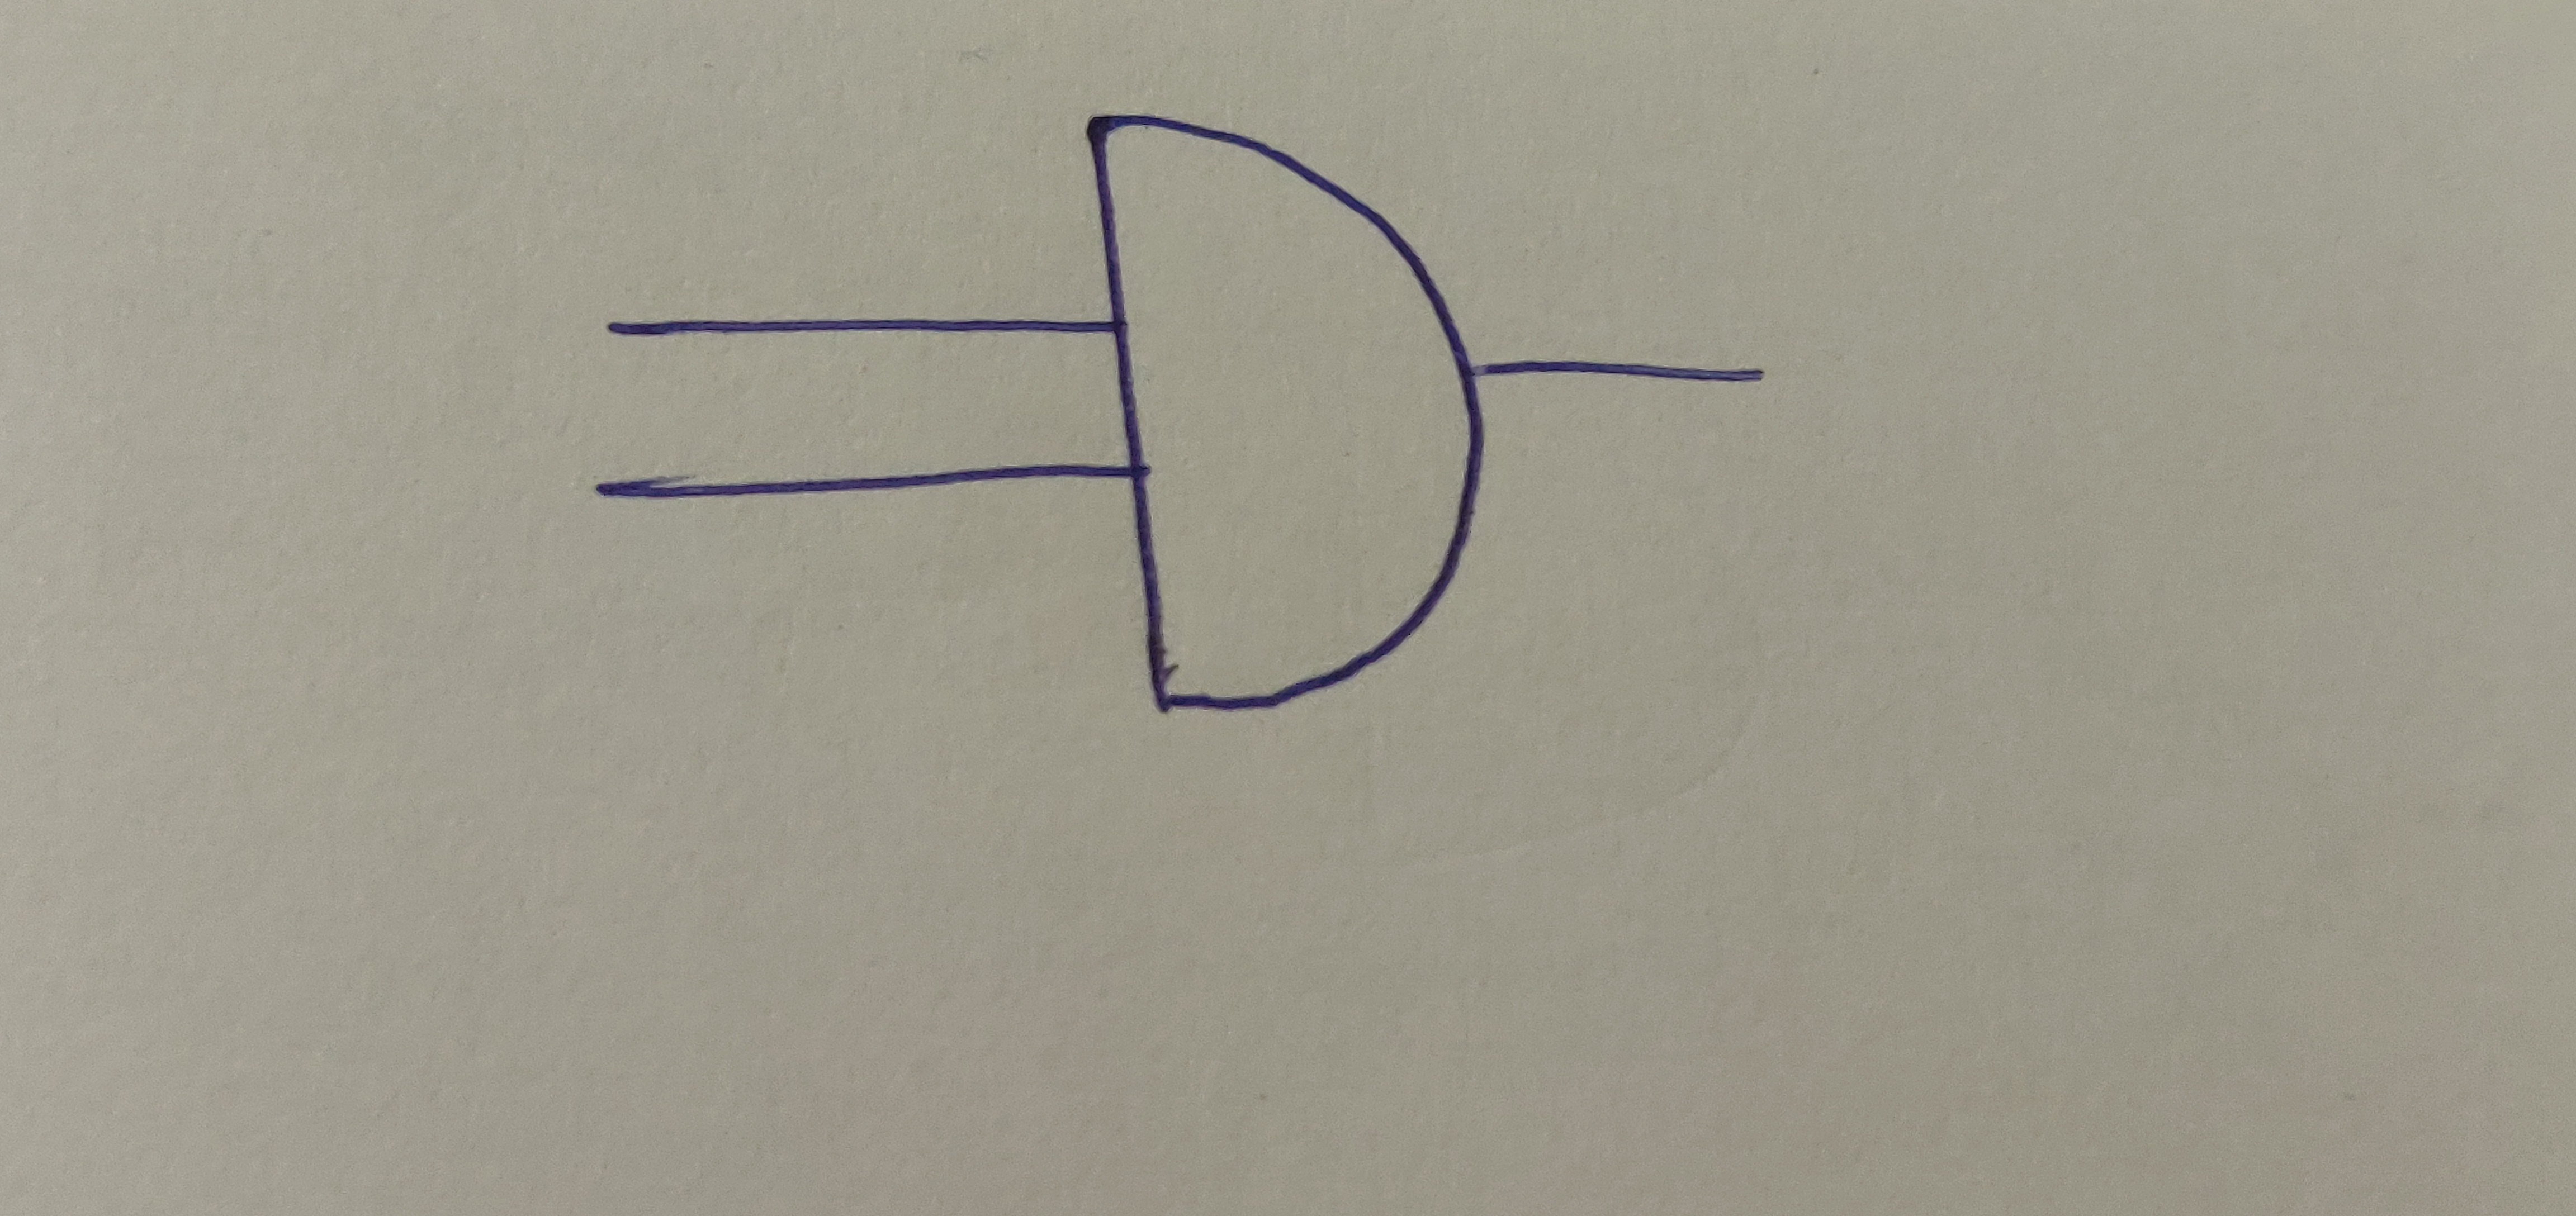and: (1084, 110, 1492, 712)
